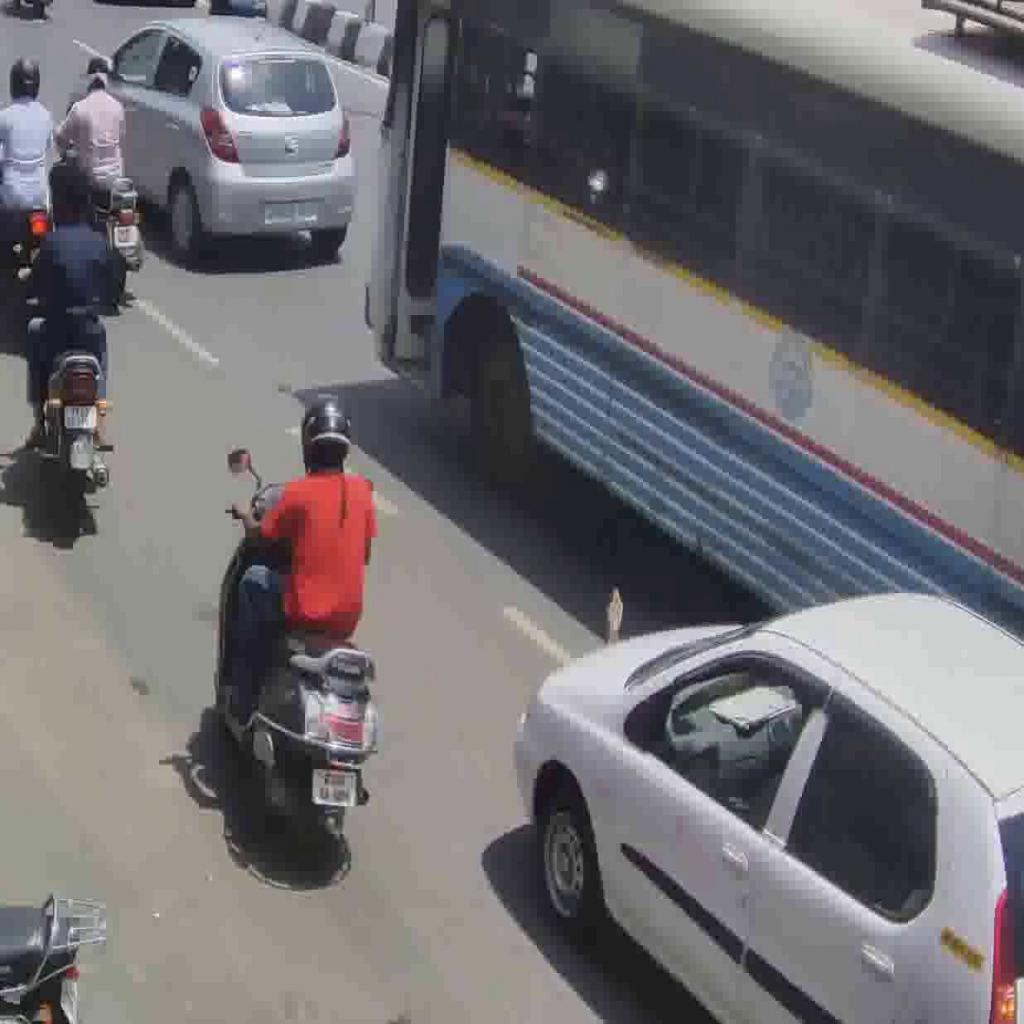bike: (212, 454, 380, 876), (22, 272, 122, 507)
helmet: (295, 396, 358, 480)
lisc: (313, 765, 360, 807), (63, 400, 97, 432)
no_helmet: (44, 153, 99, 236)
rider: (220, 394, 380, 705), (26, 153, 116, 375)
